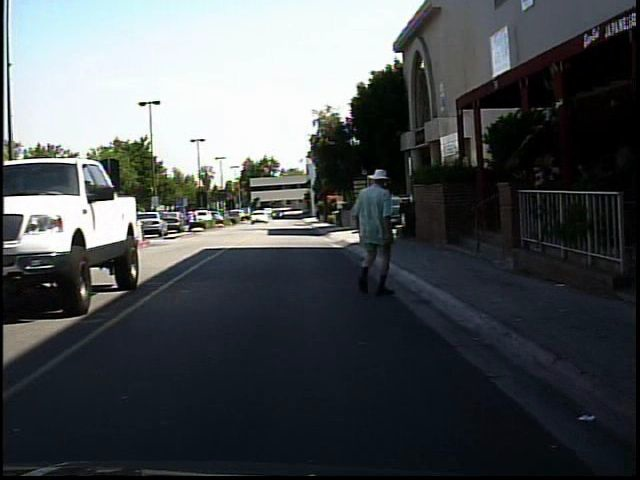person: (346, 161, 405, 301), (42, 198, 70, 266), (188, 204, 204, 228)
